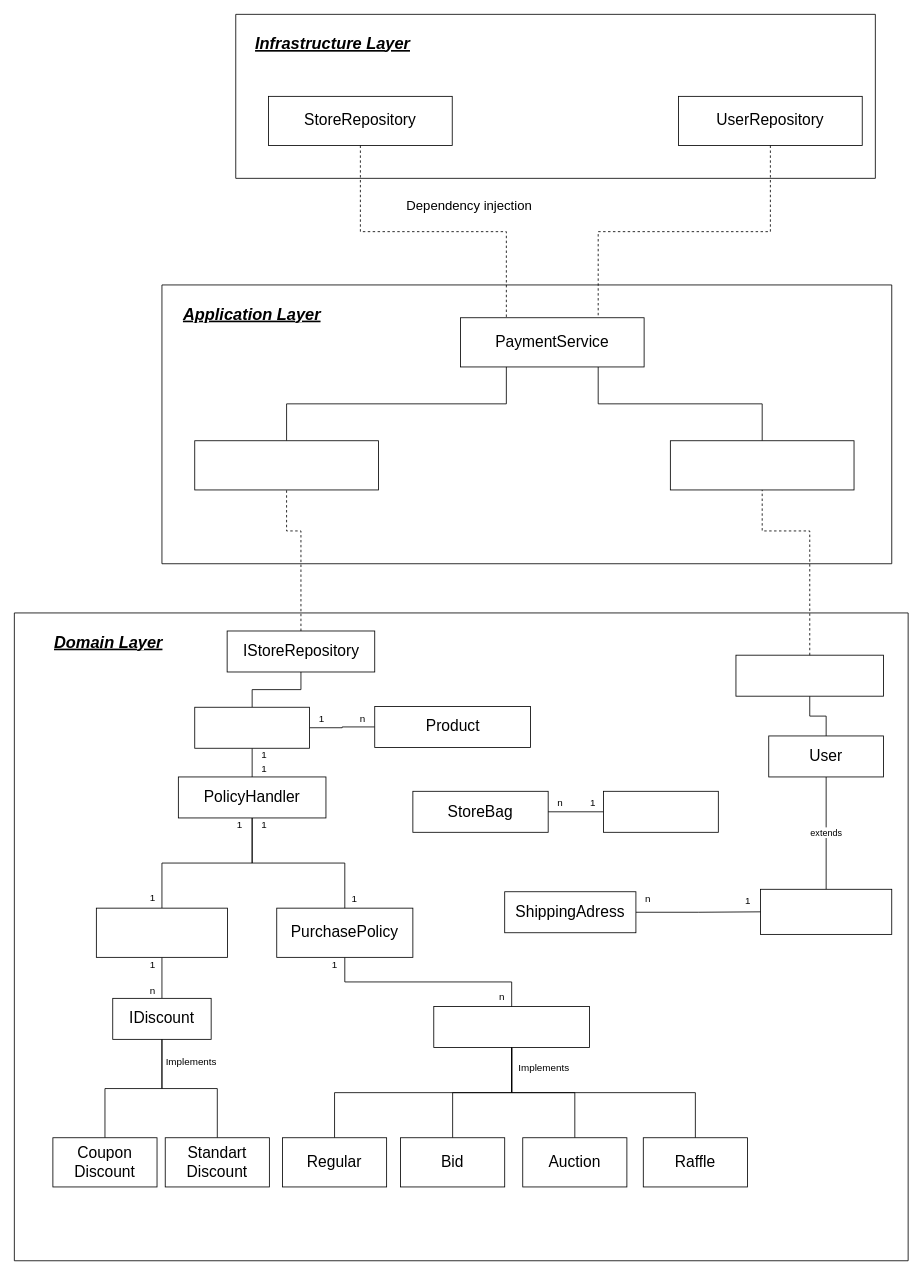
The diagram is 923 pixels wide and 1275 high, and some of its shapes have lost their labels. The shapes that lost their labels are listed below. From the top down, each one's centre as x and y in pixels, then its label:
At [286,465]: "StoreService".
At [762,465]: "UserService".
At [809,675]: "IUserRepository".
At [252,727]: "Store".
At [660,811]: "ShoppingCart".
At [826,911]: "Subscriber".
At [162,932]: "DiscountPolicy".
At [511,1027]: "IPurchaseType".
